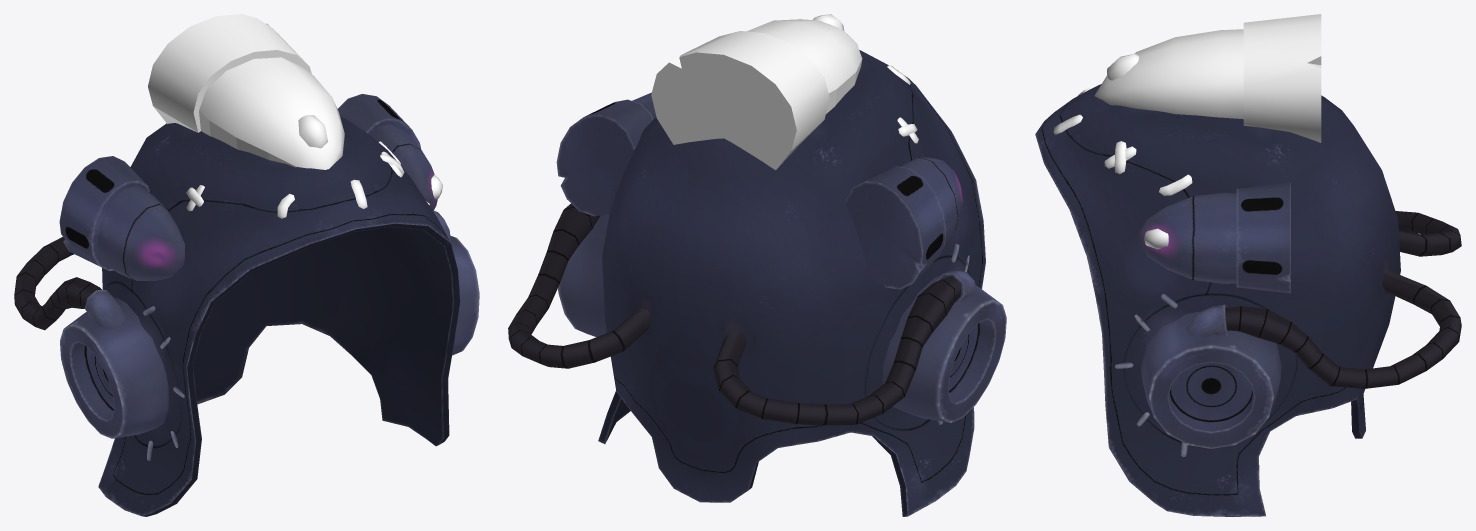
File: helmet.gltf
The picture shows the model from 3 angles, left to right: view 1: azimuth 30°, elevation 25°; view 2: azimuth 150°, elevation 25°; view 3: azimuth 270°, elevation 25°; orthographic projection. The views are drawn at different scales.
Parts seen in each view (by area): view 1: Plane001, Cylinder002, Cylinder003, Sphere007, Sphere001; view 2: Plane001, Cylinder003, Cylinder002; view 3: Plane001, Cylinder002, Cylinder003, Sphere007, Sphere001.
Boxes of the visible parts, <box> form: Plane001: <box>14,94,479,516</box>; Cylinder002: <box>199,57,344,169</box>; Cylinder003: <box>148,14,311,132</box>; Sphere007: <box>186,141,404,218</box>; Sphere001: <box>298,115,327,148</box>; Plane001: <box>508,50,1006,516</box>; Cylinder003: <box>651,31,829,170</box>; Cylinder002: <box>747,19,862,113</box>; Plane001: <box>1035,84,1461,516</box>; Cylinder002: <box>1094,29,1243,119</box>; Cylinder003: <box>1243,14,1321,142</box>; Sphere007: <box>1053,88,1192,195</box>; Sphere001: <box>1107,53,1138,80</box>.
Bounding box in the file's own units: 29.86 × 31.83 × 28.99.
2 materials, 1 textured.
